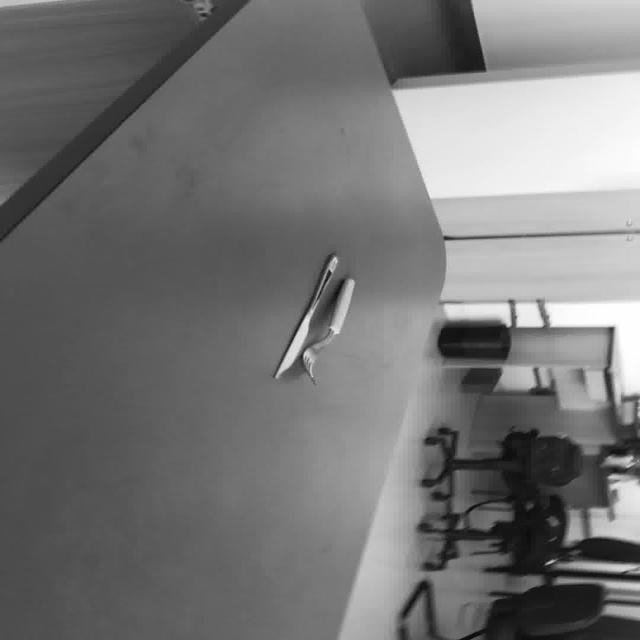fork: (300, 277, 354, 384)
knife fork: (271, 251, 338, 379)
